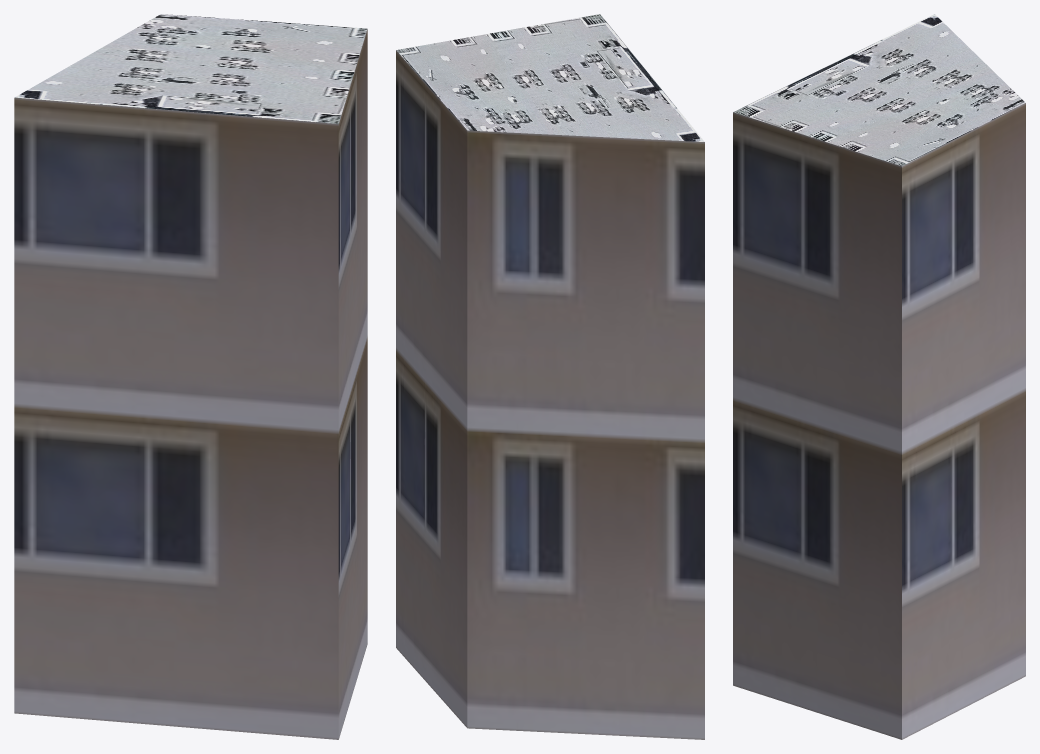
Rendered from ResTex__1923.fbx.
3 views of the same model, side by side, from view 1: azimuth 30°, elevation 25°; view 2: azimuth 150°, elevation 25°; view 3: azimuth 270°, elevation 25° (orthographic). The views are drawn at different scales.
Visible parts, largest first — view 1: CityEngineMaterial_21_m, CityEngineMaterial_m; view 2: CityEngineMaterial_21_m, CityEngineMaterial_m; view 3: CityEngineMaterial_21_m, CityEngineMaterial_m.
Part boxes in pixels (x1,y1,x2,y2): CityEngineMaterial_21_m: [14, 29, 367, 739]; CityEngineMaterial_m: [15, 14, 367, 123]; CityEngineMaterial_21_m: [396, 50, 704, 739]; CityEngineMaterial_m: [396, 14, 704, 141]; CityEngineMaterial_21_m: [733, 103, 1025, 739]; CityEngineMaterial_m: [733, 14, 1025, 166].
Size of the model in its own units: 3.42 by 6 by 2.78.
2 materials, 2 textured.
